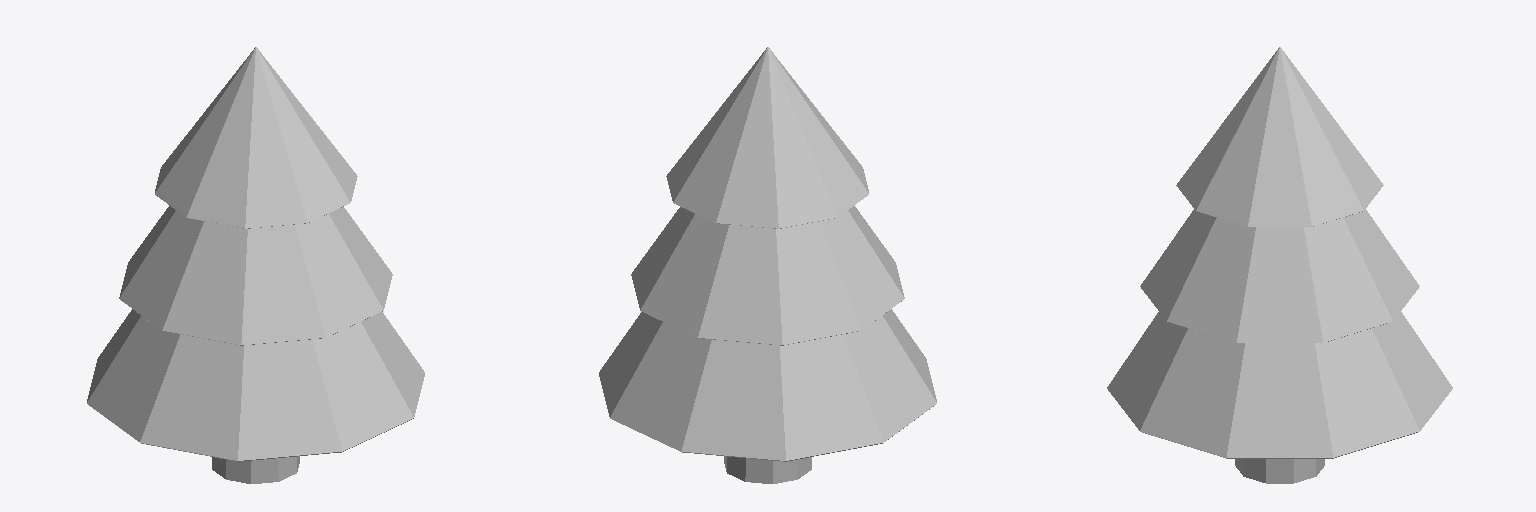
File: ForestTreePineShort.obj
3 views of the same model, side by side, from view 1: azimuth 30°, elevation 25°; view 2: azimuth 150°, elevation 25°; view 3: azimuth 270°, elevation 25° (orthographic).
Parts seen in each view (by area): view 1: ForestTreePineShort; view 2: ForestTreePineShort; view 3: ForestTreePineShort.
Boxes of the visible parts, box(x1,y1,x2,y2) form: ForestTreePineShort: box(87, 47, 424, 483); ForestTreePineShort: box(599, 47, 936, 483); ForestTreePineShort: box(1107, 47, 1452, 483).
Size of the model in its own units: 1.66 by 2.32 by 1.74.